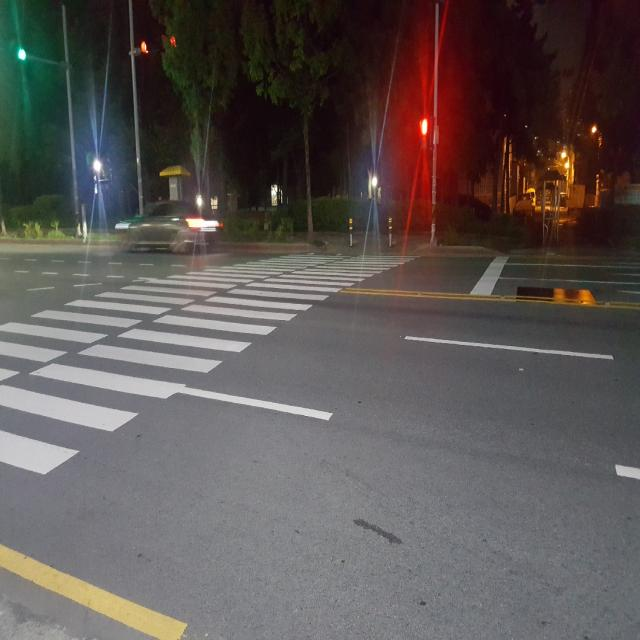빨간불: (418, 117, 430, 144)
횡단보도: (0, 251, 421, 480)
